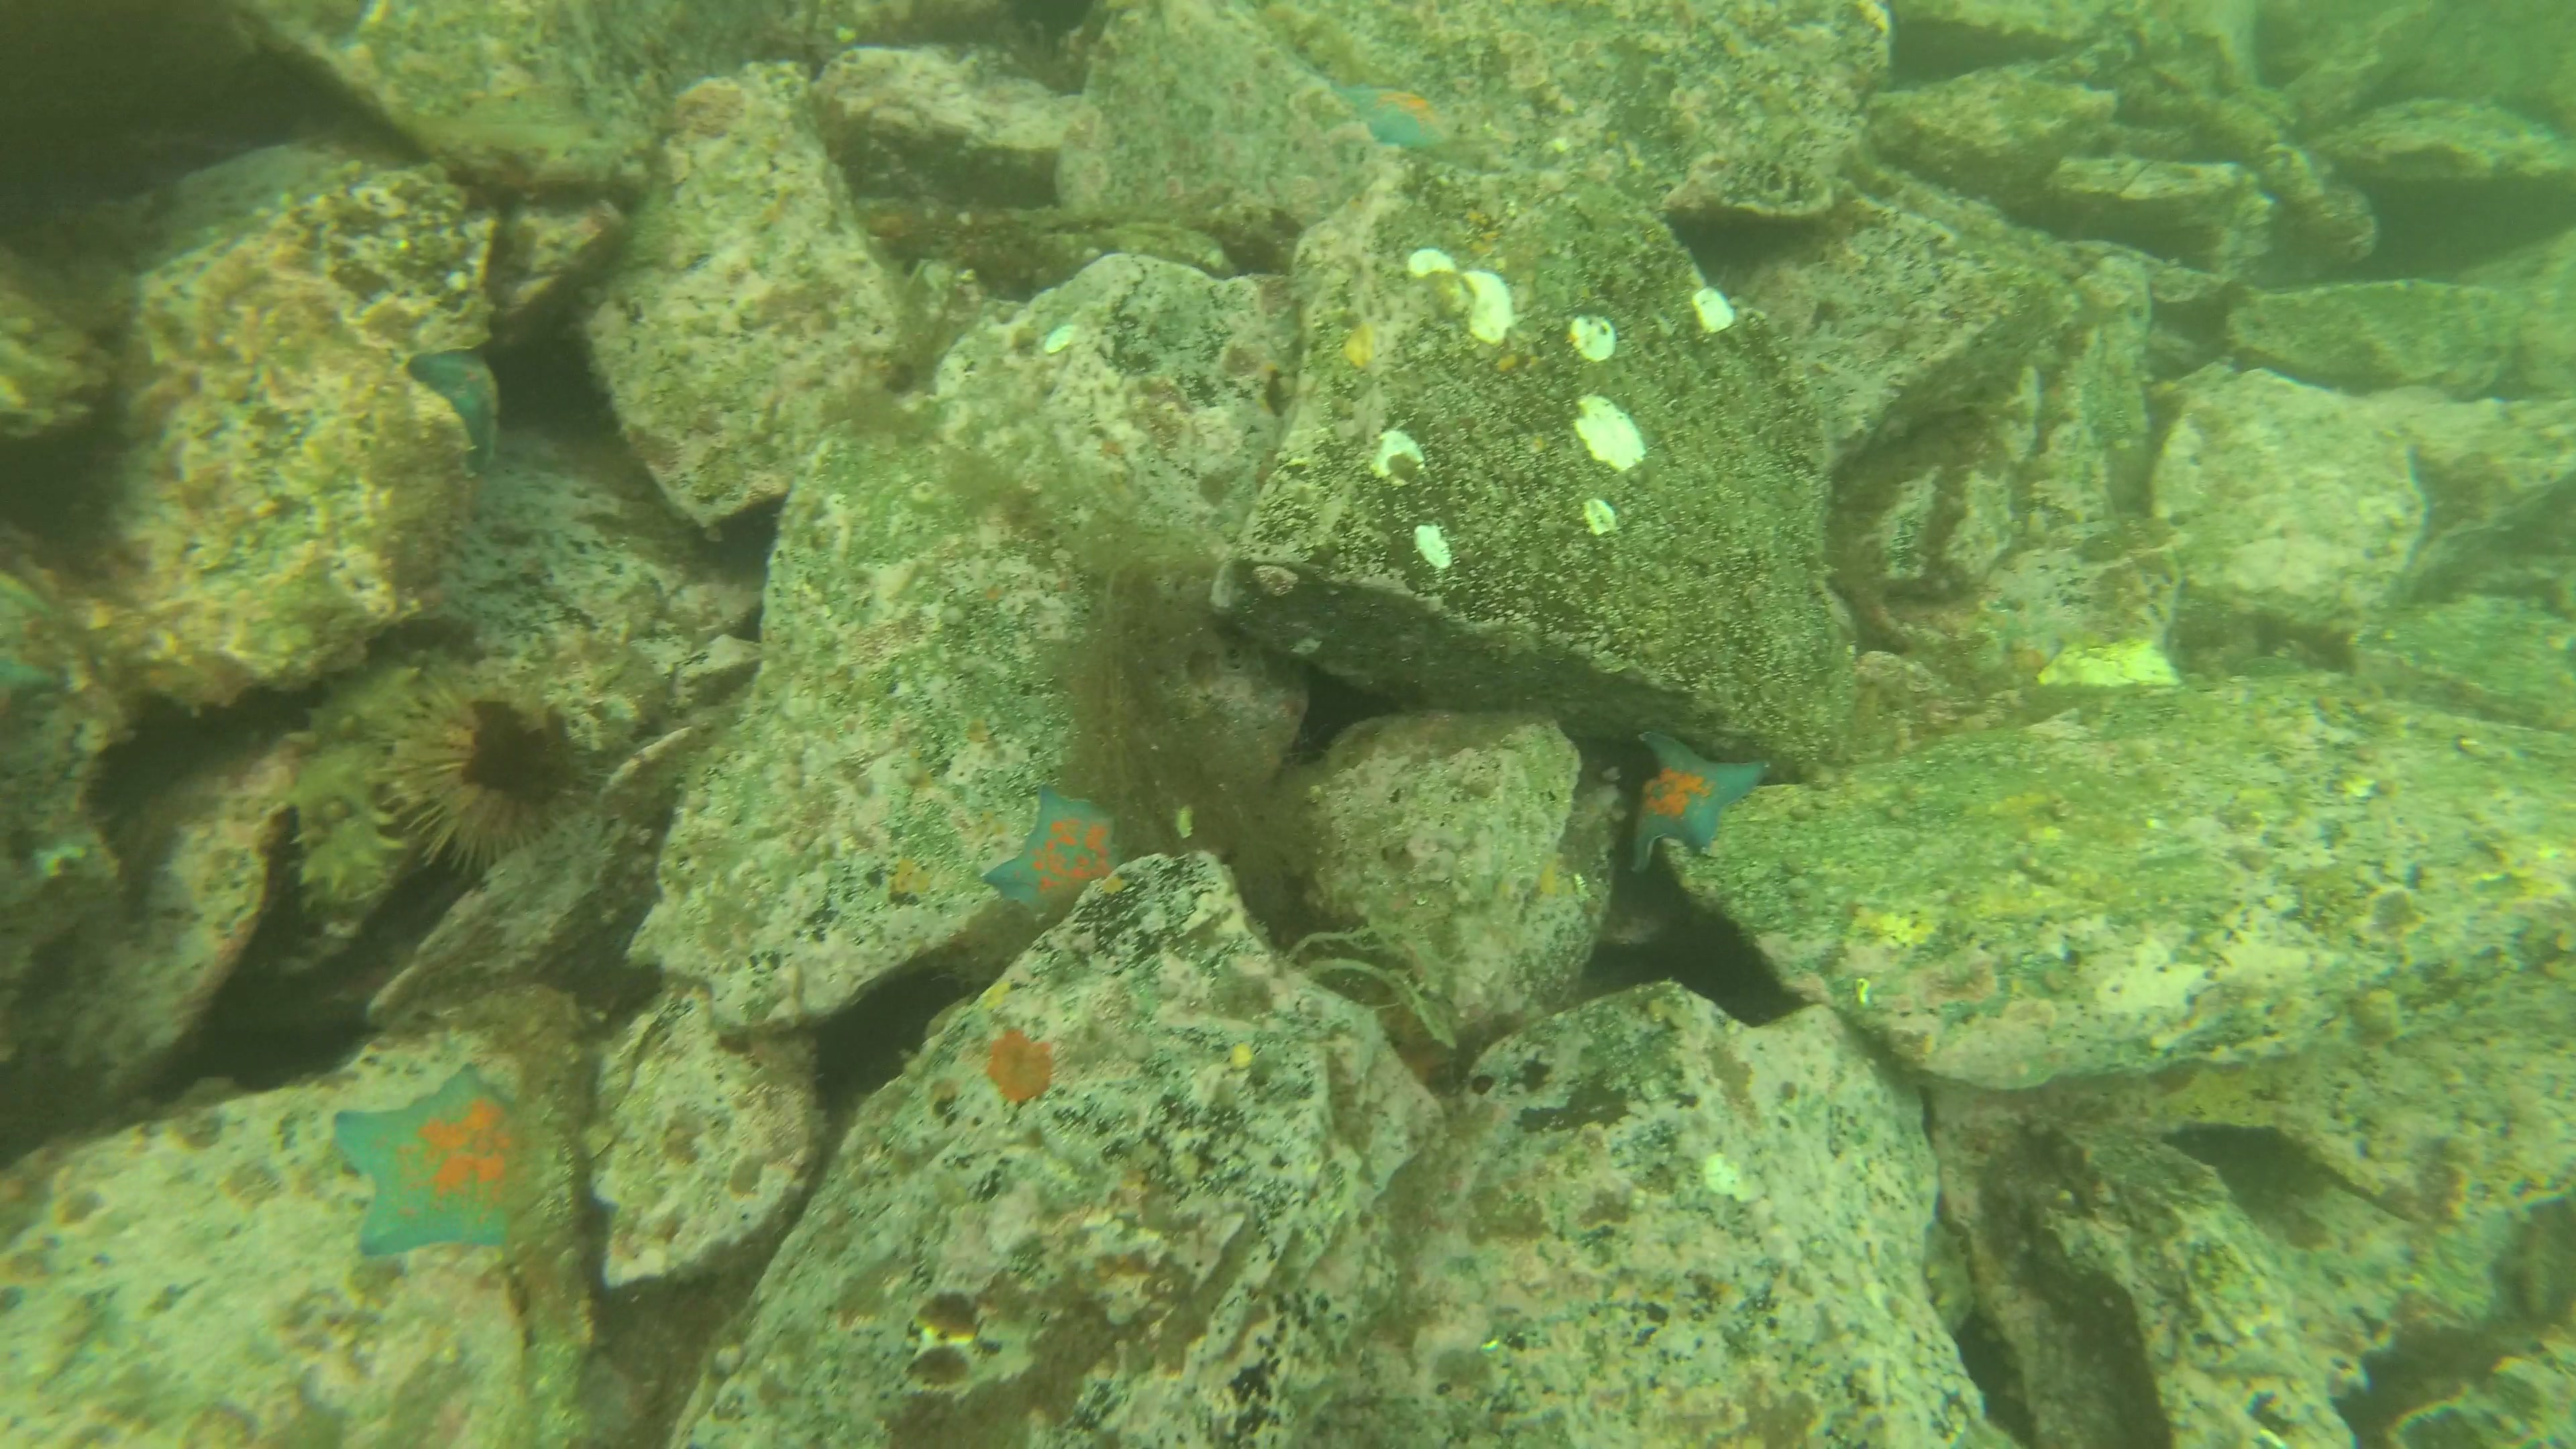echinus: (379, 676, 607, 881)
holothurian: (283, 655, 446, 924)
starfish: (334, 1069, 557, 1258), (1628, 732, 1771, 876), (984, 787, 1125, 931), (405, 350, 501, 474), (1332, 85, 1463, 147)
